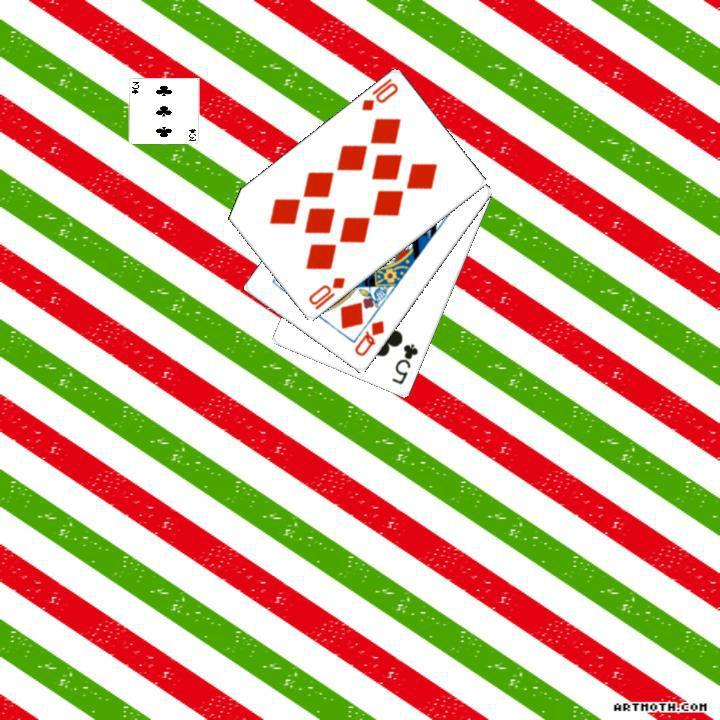10: (304, 273, 347, 312), (357, 74, 400, 113)
5: (388, 340, 420, 387)
Q: (350, 316, 386, 359)
